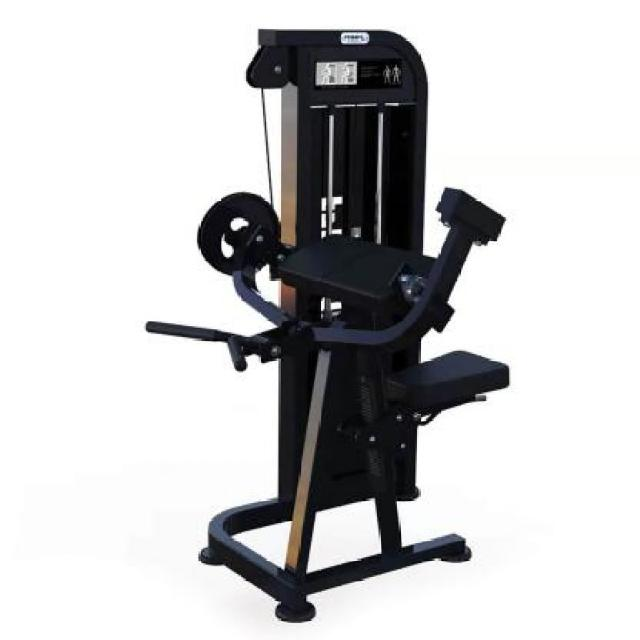arm curl machine: (144, 29, 510, 622)
